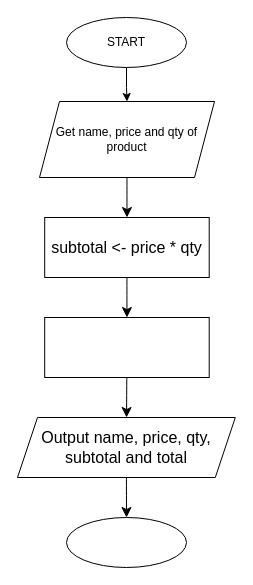
Image size: 253x585. Some labels were removed from this diagram. The shapes that lost their labels are listed below. From the top down, each one's centre as x and y in pixels, then its label:
At point (126, 347): "total <- subtotal * 1.08".
At point (126, 542): "STOP".
